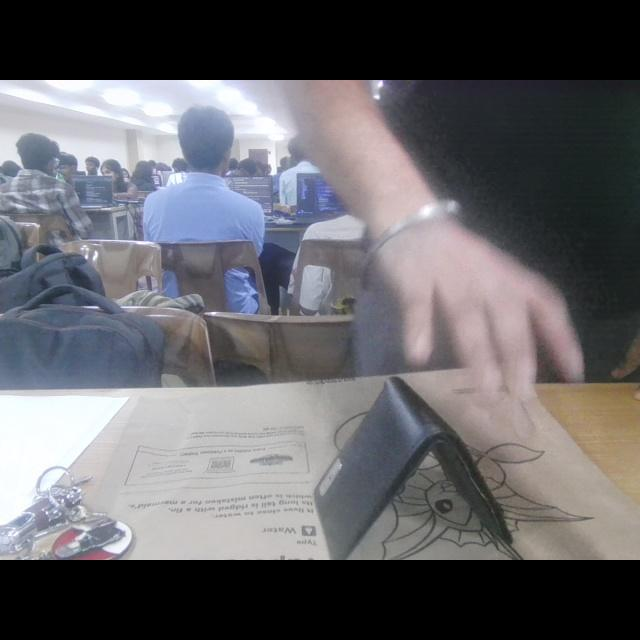keys: (0, 458, 156, 560)
